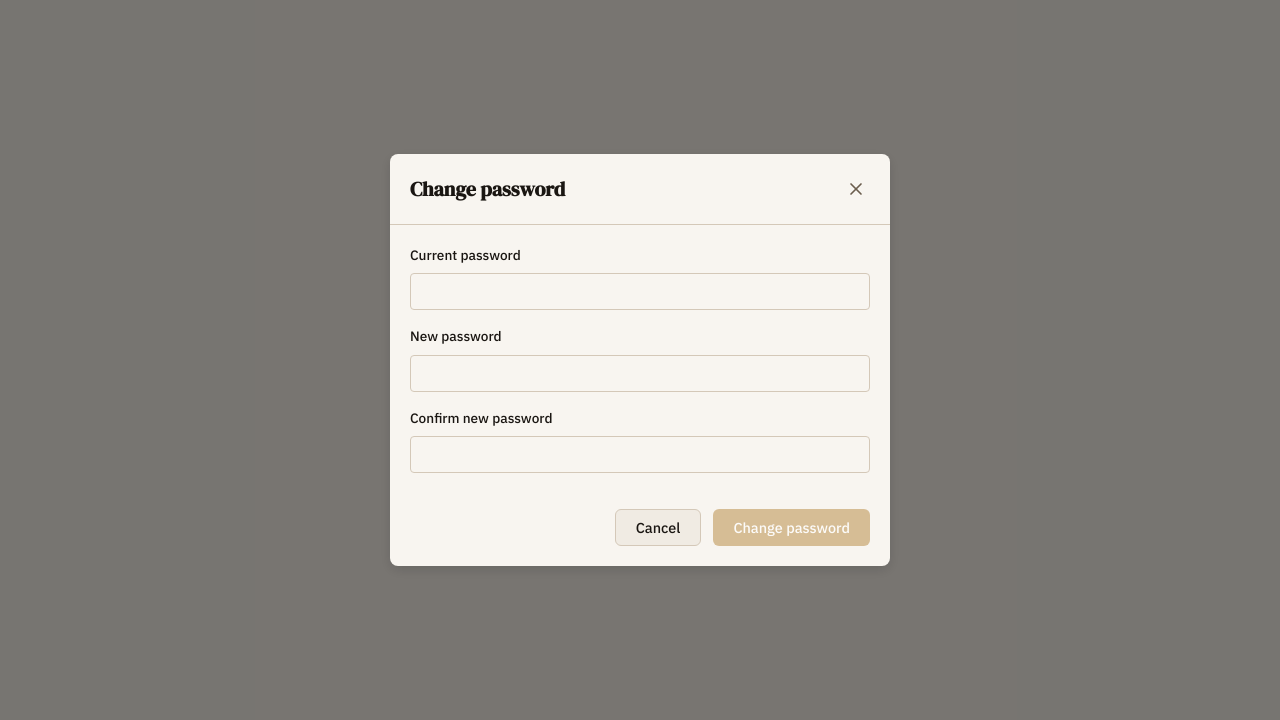
Test: ChangePasswordModal › renders inline error and does not touch apiError on rejection
Type "wrongguess" into the password field with id "current-password".
click(640, 292); type("wrongguess")  # box x1=410 y1=273 x2=870 y2=310
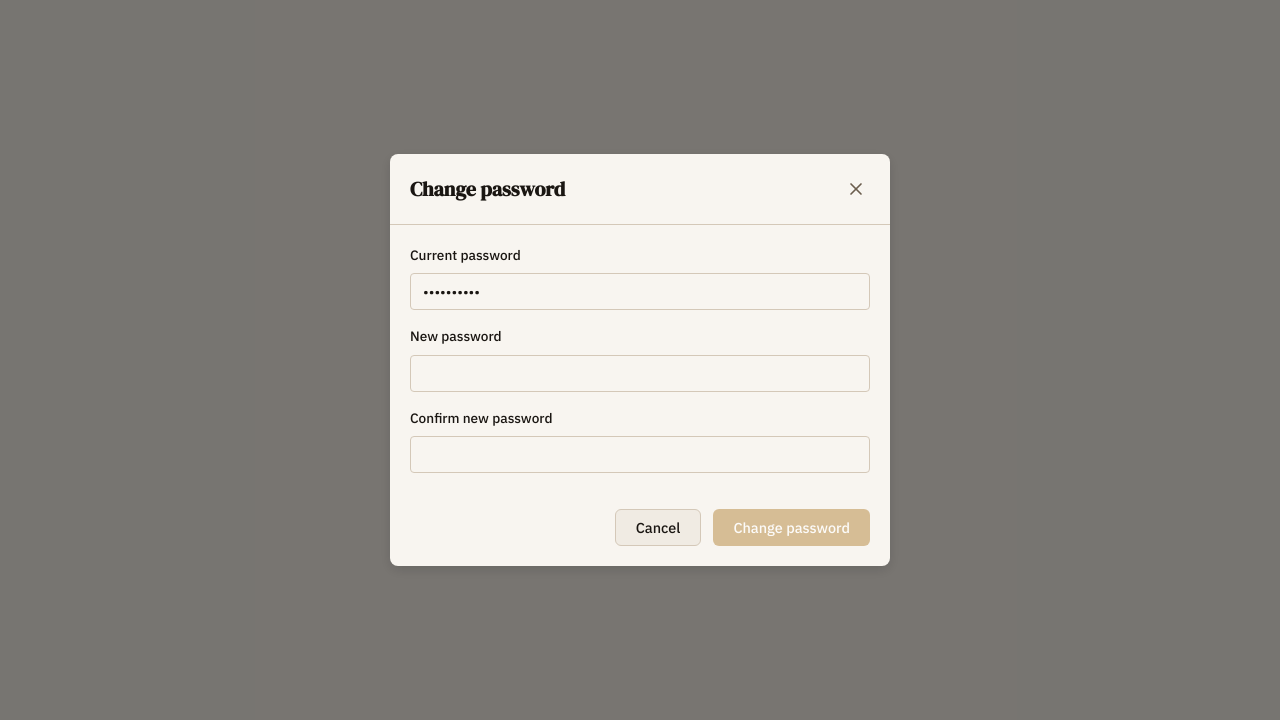
Type "newpassword1" into the password field with id "new-password".
click(640, 373); type("newpassword1")  # box x1=410 y1=355 x2=870 y2=392
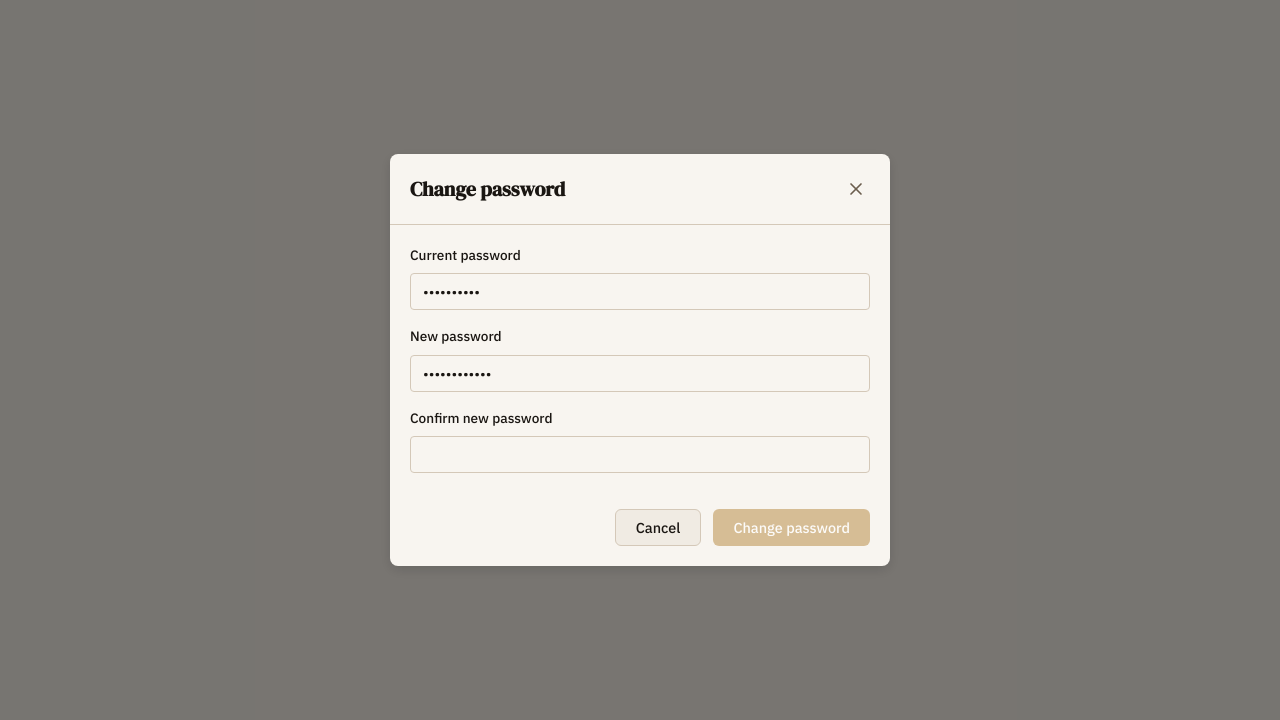
Type "newpassword1" into the password field with id "confirm-new-password".
click(640, 455); type("newpassword1")  # box x1=410 y1=436 x2=870 y2=473
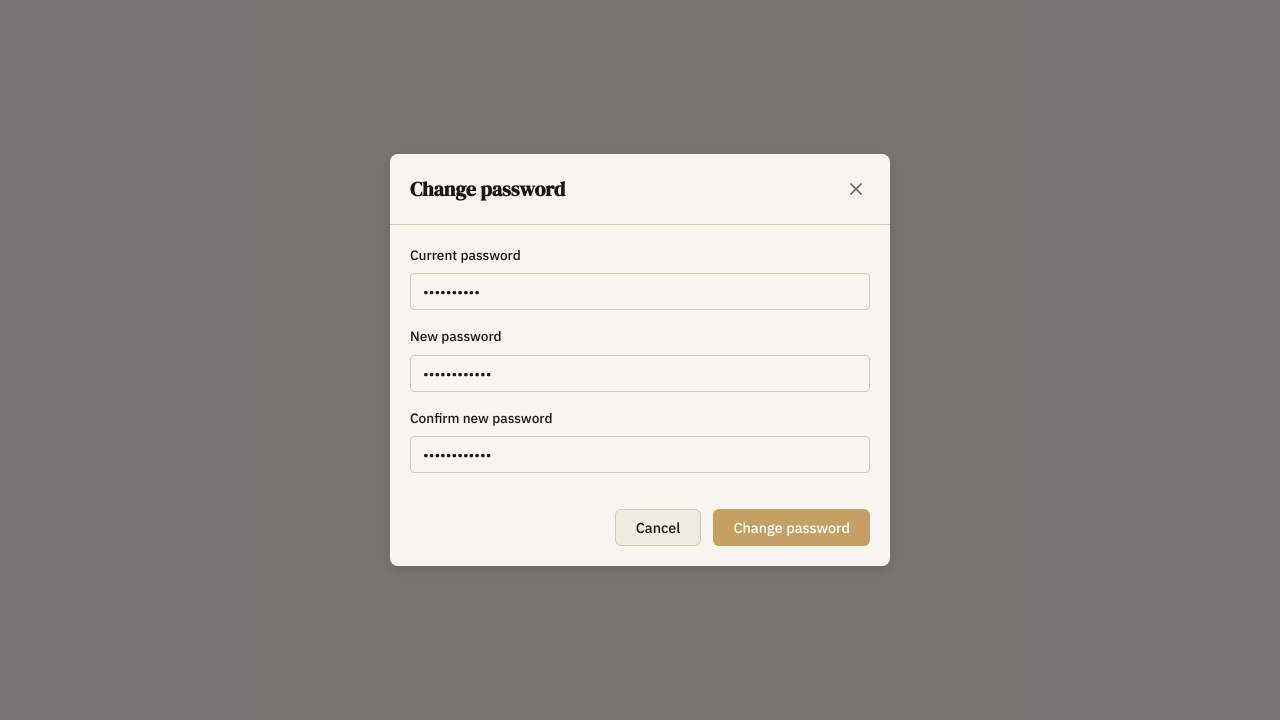
Submit the form, box x1=410 y1=245 x2=870 y2=546
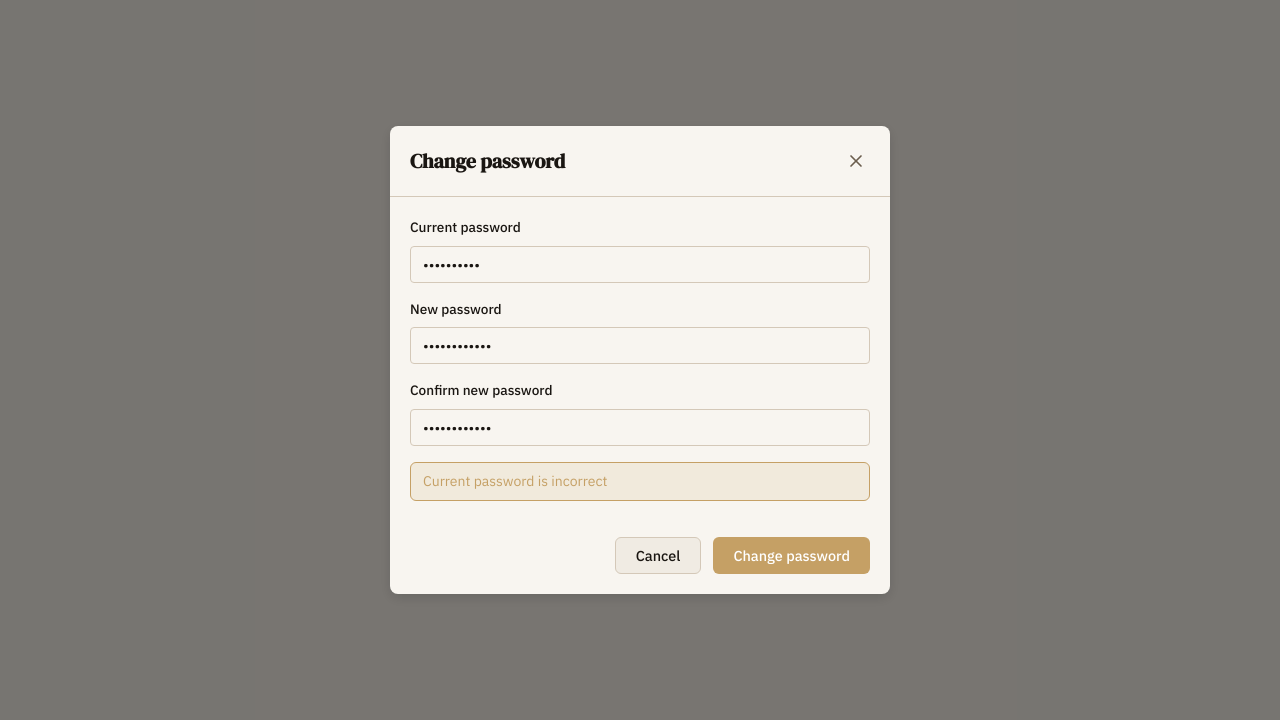
Expected: the message with class "error-message" reads "Current password is incorrect", x1=423 y1=472 x2=608 y2=490
